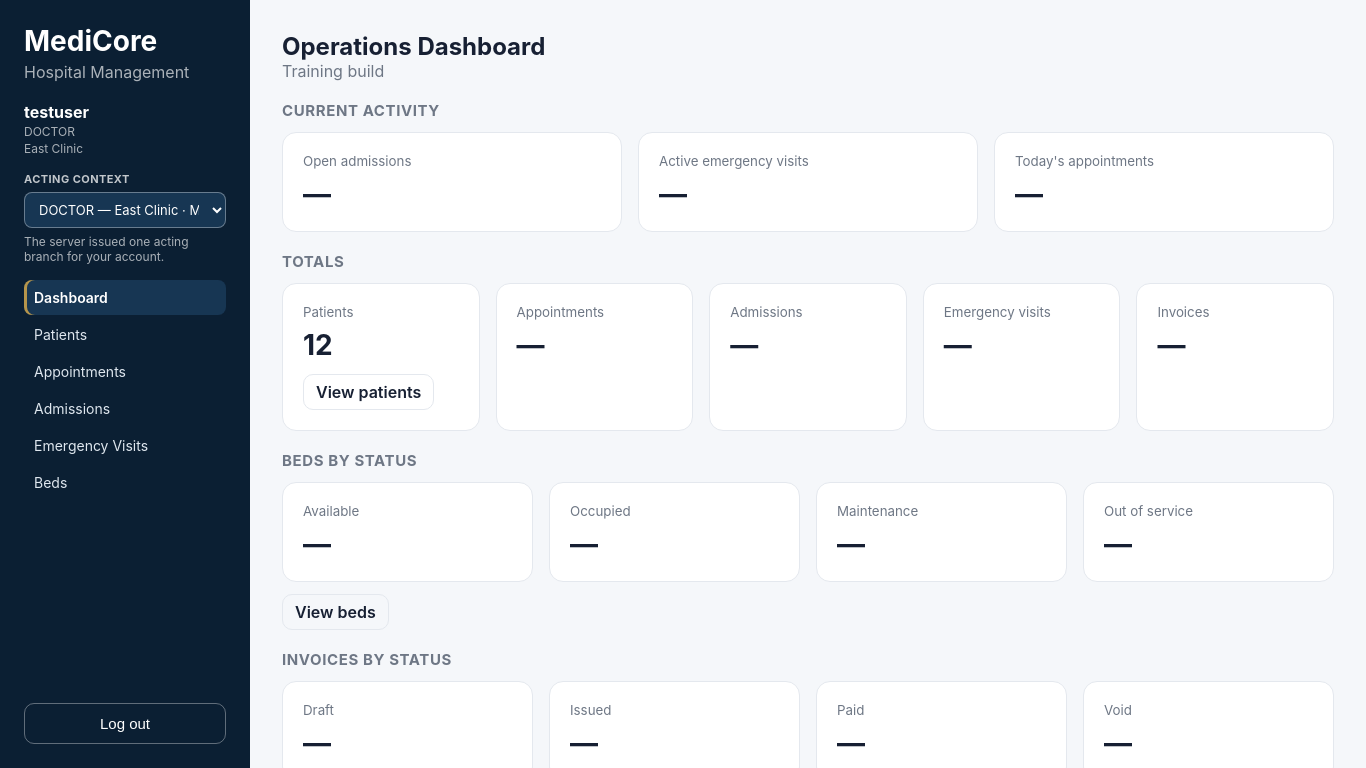
Scenario: AppShell › switches among dashboard, patients, and appointments selections with honest screen boundaries
The image size is (1366, 768).
Expected: the text "Patients" is shown, [303, 304, 354, 320]
Expected: the text "12" is shown, [303, 328, 333, 362]
Click the button "Appointments" at (125, 372), box [24, 354, 226, 389]
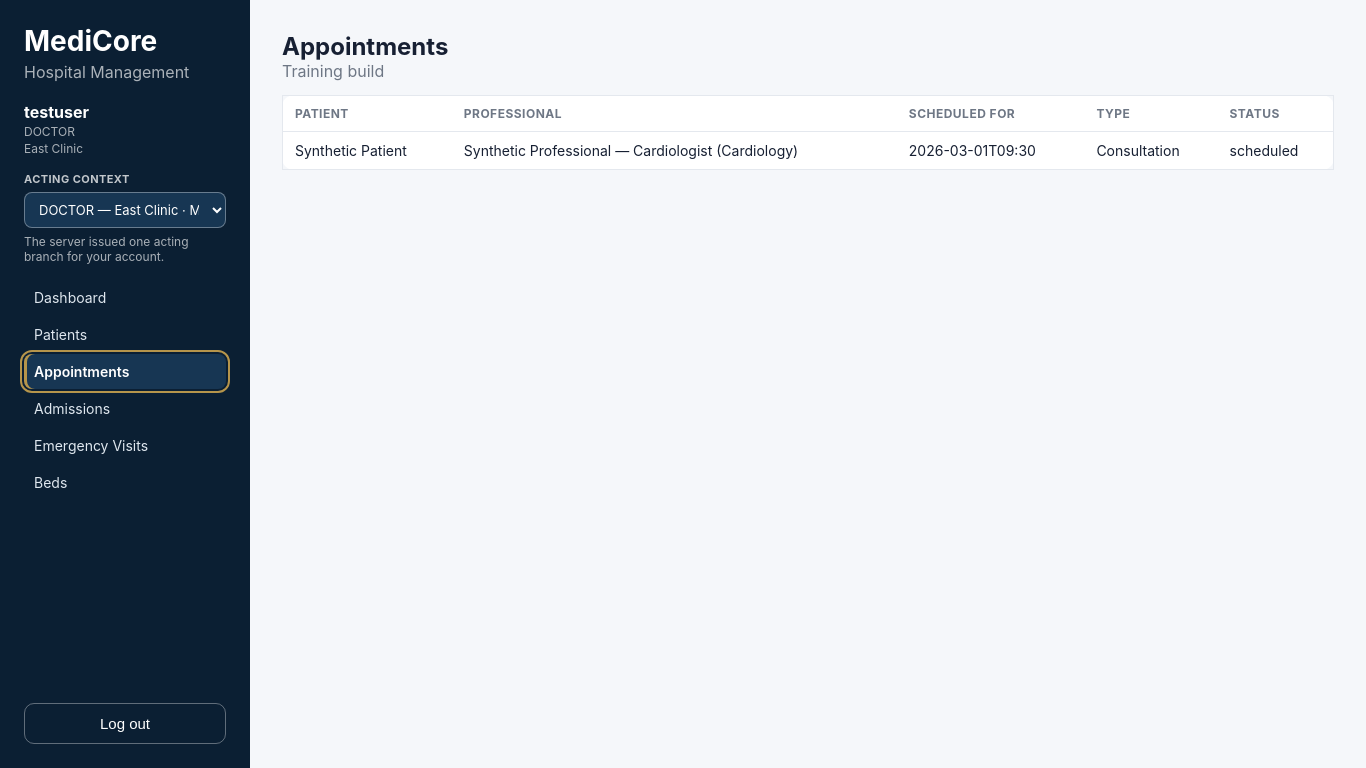
Now the heading "Appointments" is shown, box [282, 32, 448, 61]
Now the text "Synthetic Patient" is shown, box [282, 132, 452, 170]
Now the table named "Scheduled appointments" is shown, box [282, 95, 1334, 170]
Click the button "Patients" at (125, 334), box [24, 317, 226, 352]
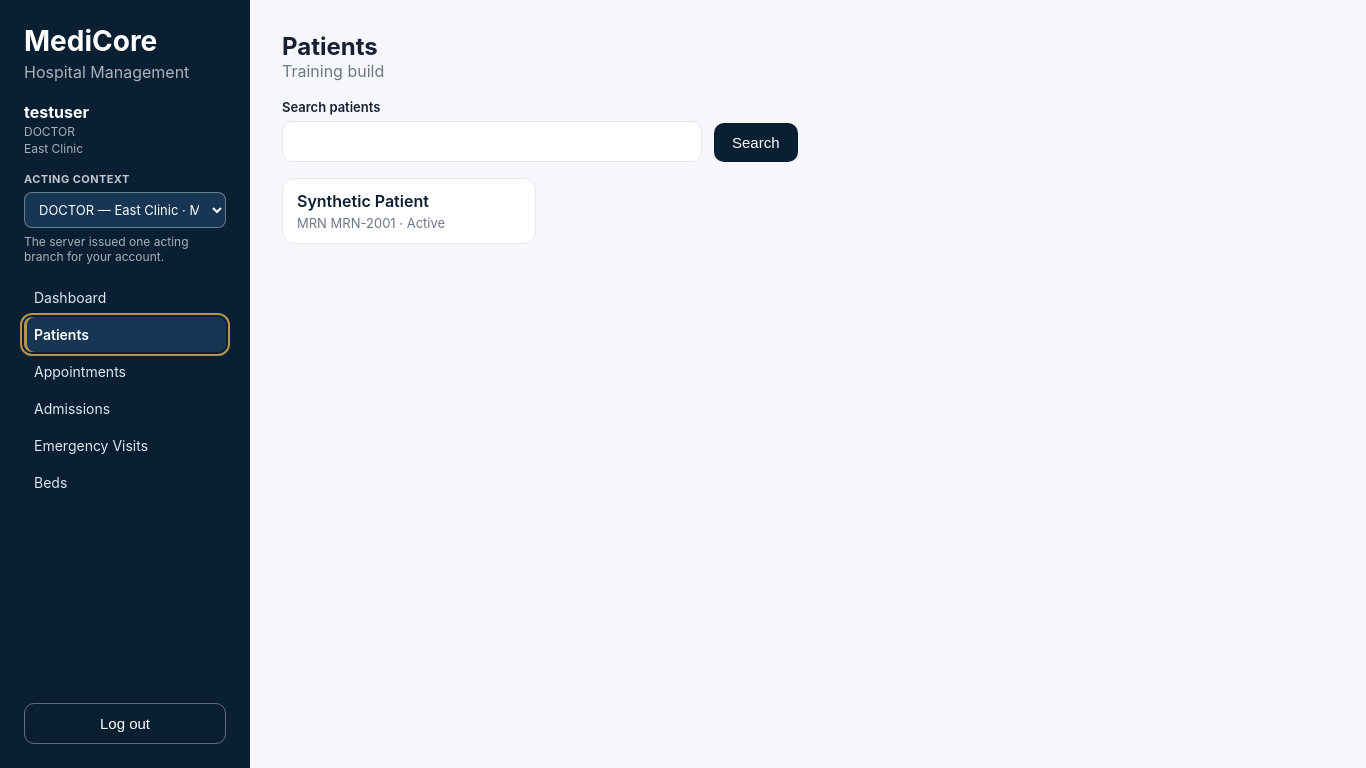
Now the text "Synthetic Patient" is shown, box [297, 191, 429, 211]
Now the heading "Patients" is shown, box [282, 32, 384, 61]
Now the search field labelled "Search patients" is shown, box [282, 121, 702, 162]
Click the button "Dashboard" at (125, 298), box [24, 280, 226, 315]
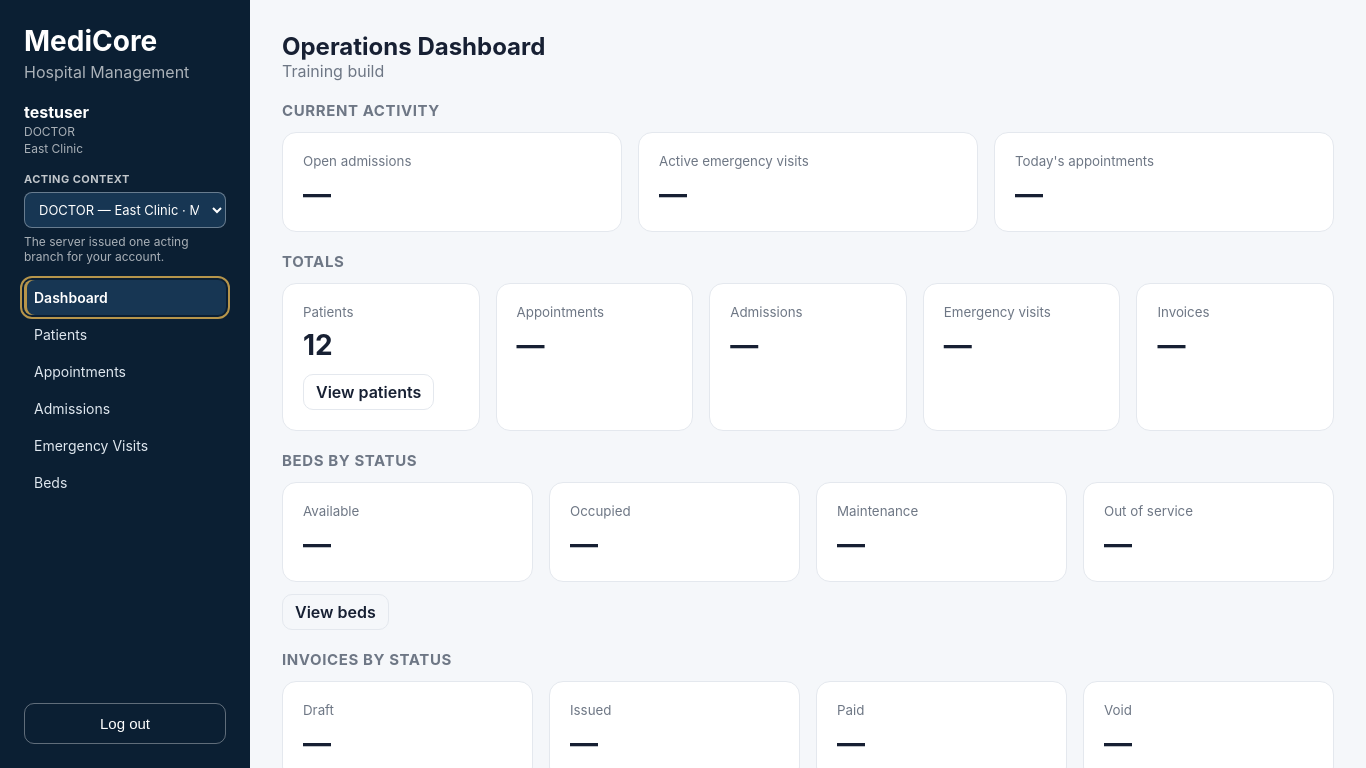
Now the heading "Operations Dashboard" is shown, box [282, 32, 545, 61]
